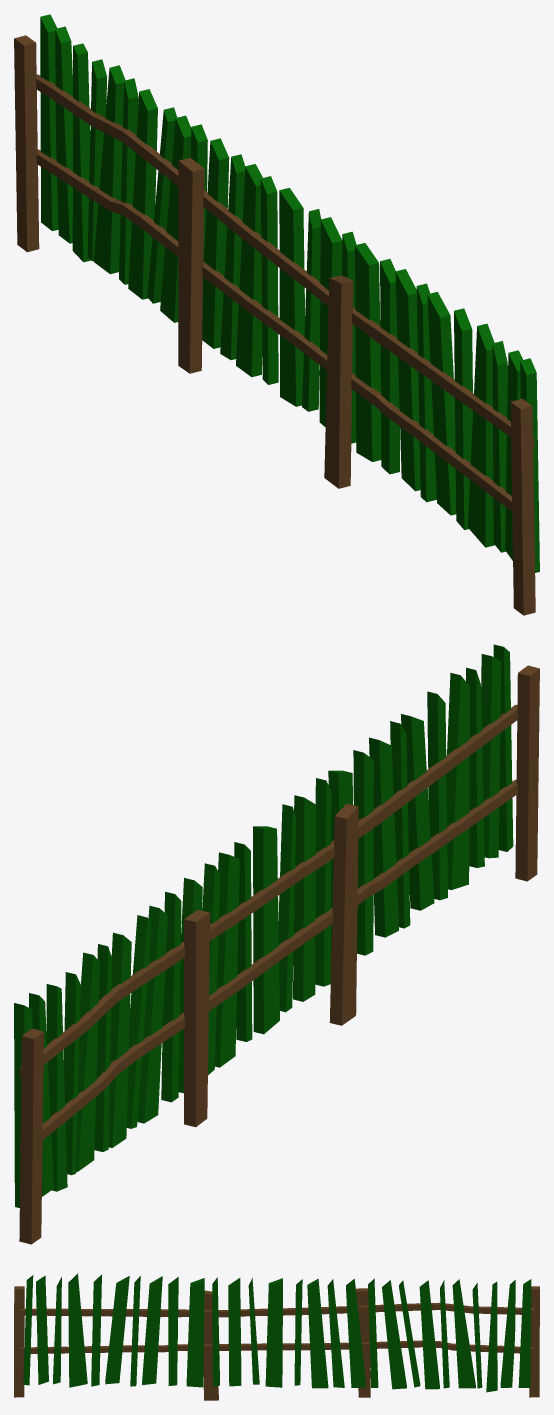
File: Fence01.fbx
3 views of the same model, one above another, from view 1: azimuth 30°, elevation 25°; view 2: azimuth 150°, elevation 25°; view 3: azimuth 270°, elevation 25° (orthographic). The views are drawn at different scales.
Visible parts, largest first — view 1: Fence; view 2: Fence; view 3: Fence.
Boxes of the visible parts, <box> form: Fence: <box>14,14,539,615</box>; Fence: <box>14,644,539,1244</box>; Fence: <box>14,1273,539,1400</box>.
Size of the model in its own units: 16.42 by 138 by 511.
